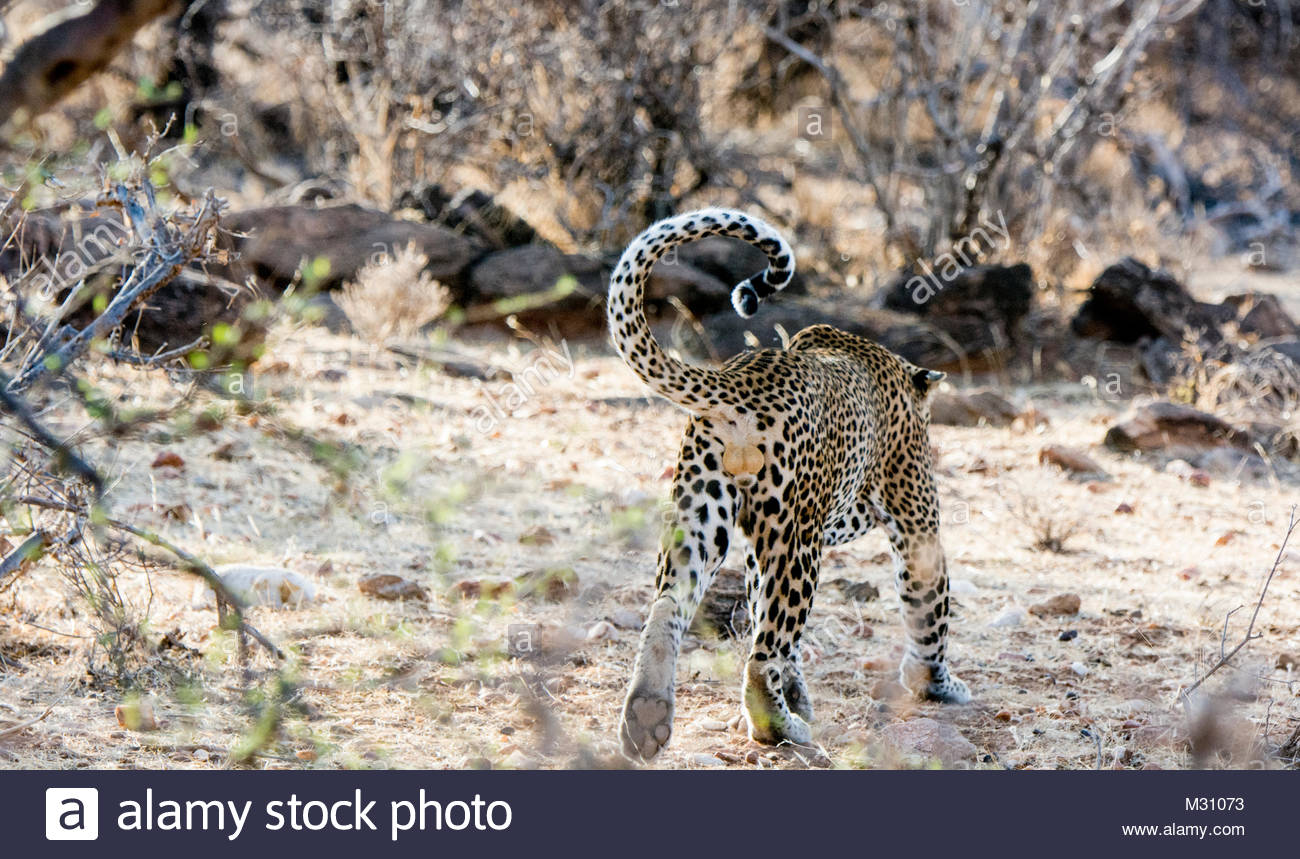leopard: (598, 186, 974, 745)
